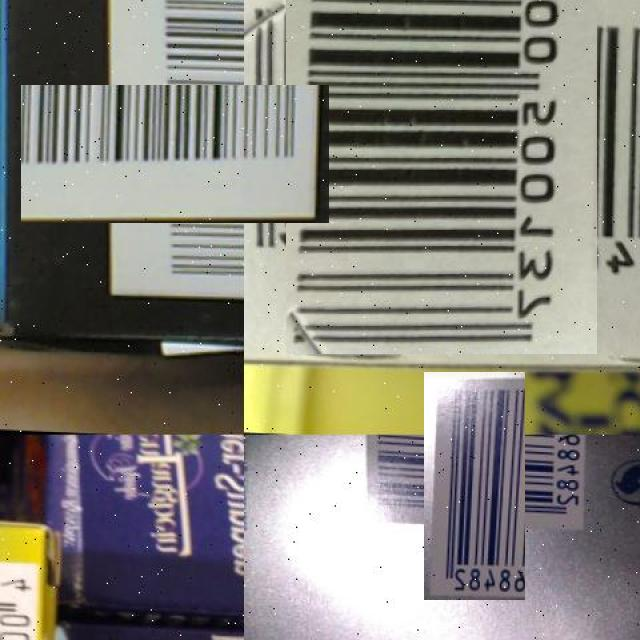Barcode: (265, 0, 619, 333), (63, 43, 287, 266), (392, 403, 557, 568)
